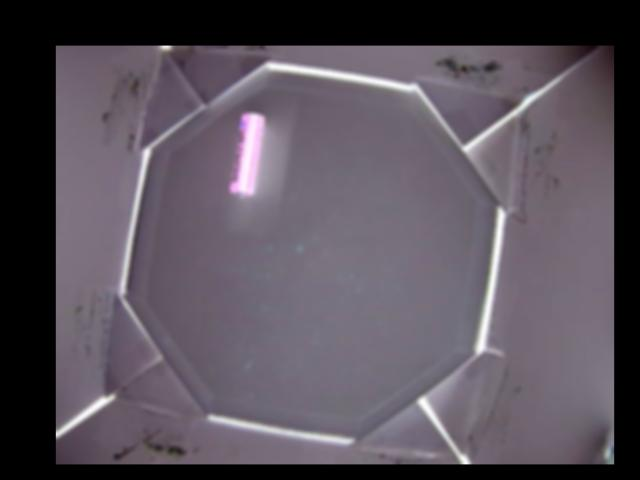Battery: (229, 111, 267, 196)
